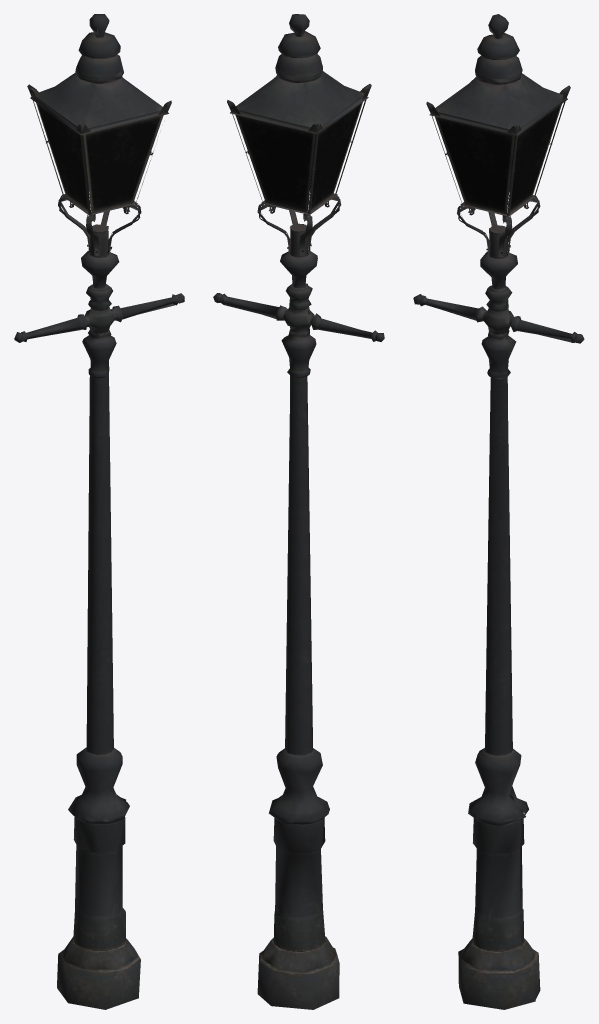
The model's file is street_lamp_01.glb.
The picture shows the model from 3 angles, left to right: view 1: azimuth 30°, elevation 25°; view 2: azimuth 150°, elevation 25°; view 3: azimuth 330°, elevation 25°; orthographic projection.
Visible parts, largest first — view 1: street_lamp_01; view 2: street_lamp_01; view 3: street_lamp_01.
Part boxes in pixels (x1=…): street_lamp_01: x1=14, y1=14, x2=184, y2=1009; street_lamp_01: x1=213, y1=14, x2=384, y2=1009; street_lamp_01: x1=413, y1=14, x2=584, y2=1009.
Bounding box in the file's own units: 0.7081 × 3.87 × 0.3839.
3 materials, 3 textured.
